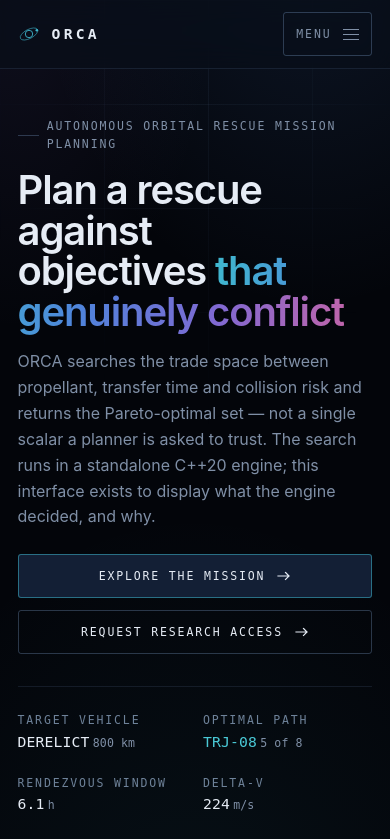
Test case: OrcaLanding: the entry controls › opens the compact menu as a disclosure, not a modal
Click the button "Menu": (328, 34) [283, 12, 372, 56]
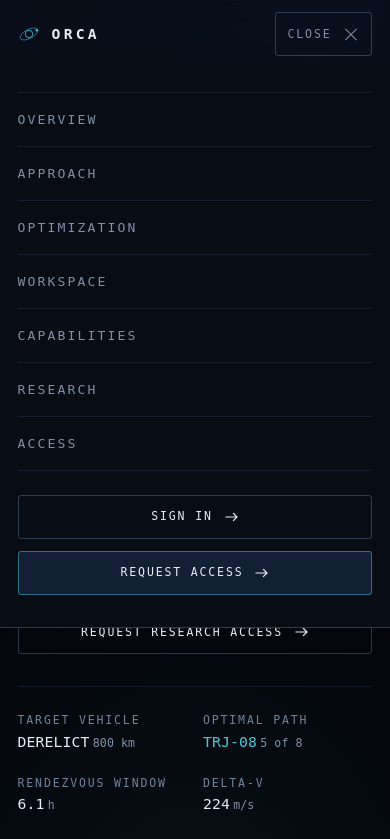
Expected: the button "Close" is expanded, [275, 12, 372, 56]
